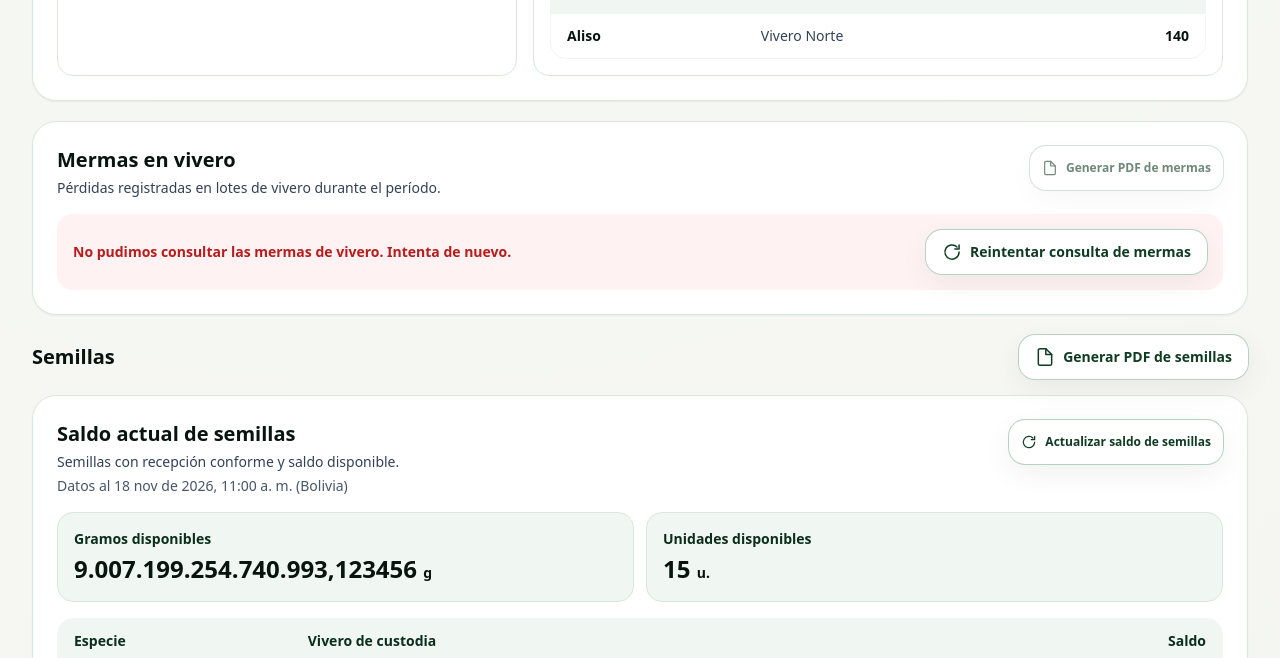
Impacto y reportes de plantaciones › mantiene el inventario visible si fallan mermas y vuelve a la primera página al aplicar un período
(page scrolled)
Expected: the message shows "No pudimos consultar las mermas", [73, 242, 511, 261]
Click the button "Reintentar consulta de mermas" at x=1066, y=252, box [926, 230, 1207, 274]
(page scrolled)
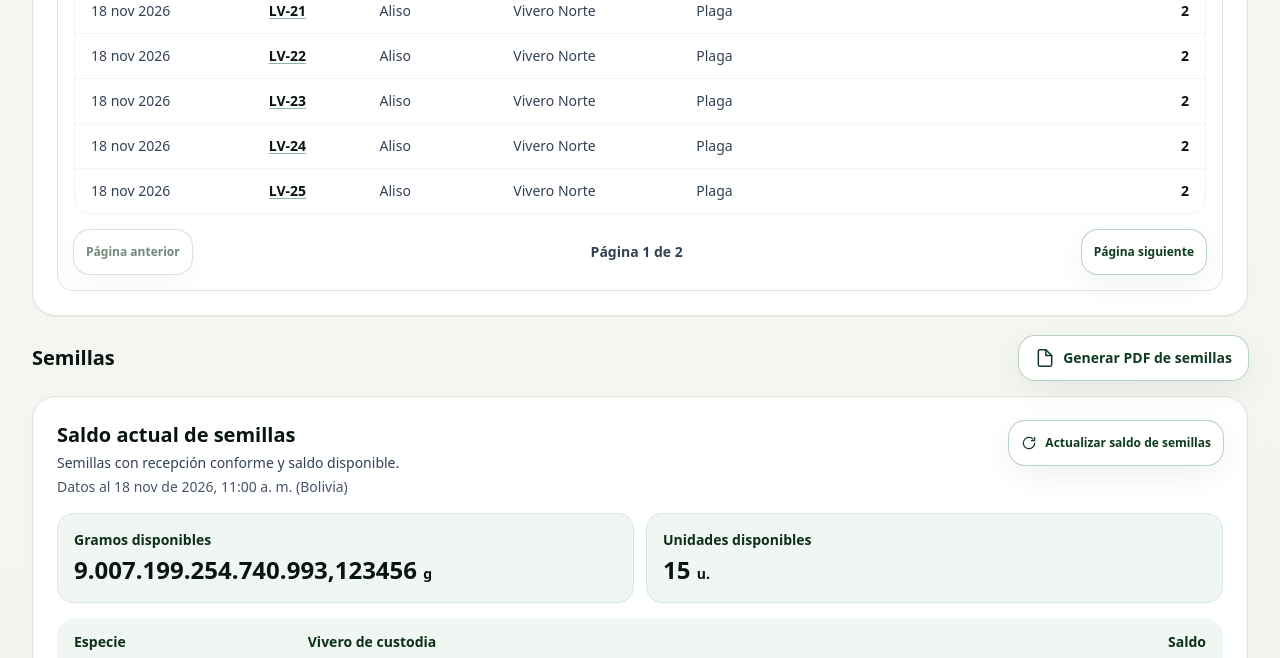
Now the text "Página 1 de 2" is shown, box [591, 242, 683, 262]
Click the button "Página siguiente" at x=1144, y=252, box [1082, 230, 1206, 274]
(page scrolled)
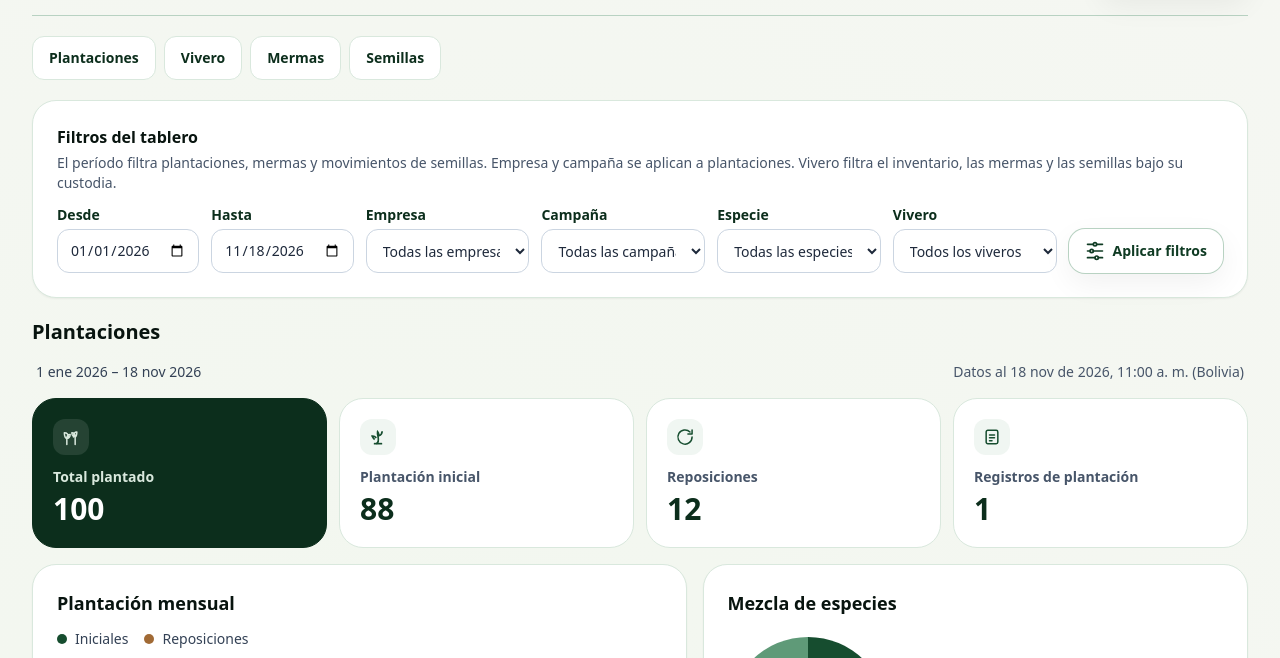
Type "2026-03-01" into the date field labelled "Desde" at x=128, y=251, box [57, 229, 199, 273]
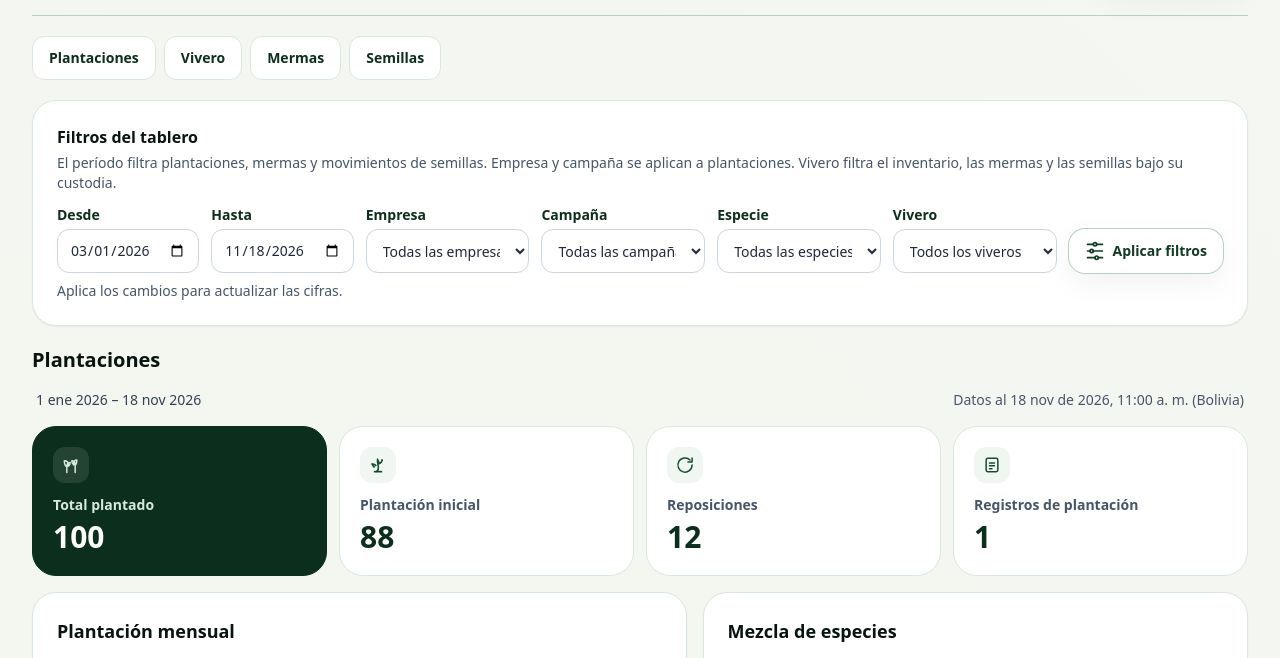
Click the button "Aplicar filtros" at x=1146, y=251, box [1068, 229, 1223, 273]
(page scrolled)
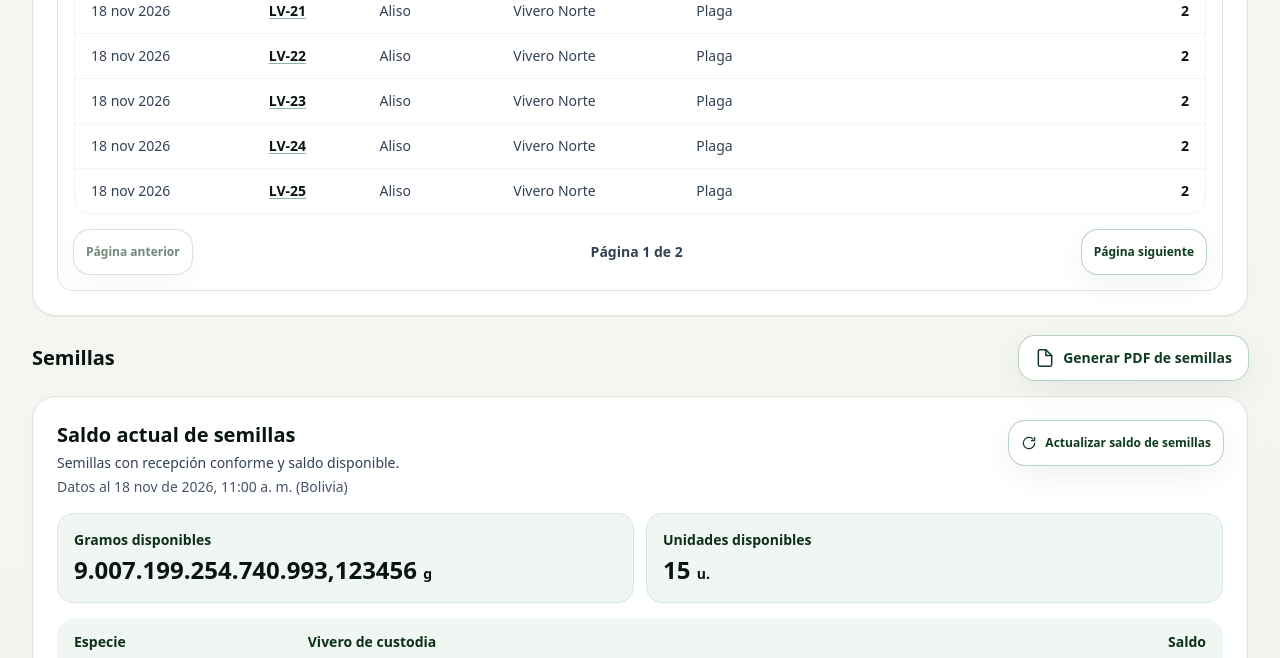
Now the text "Página 1 de 2" is shown, box [591, 242, 683, 262]
